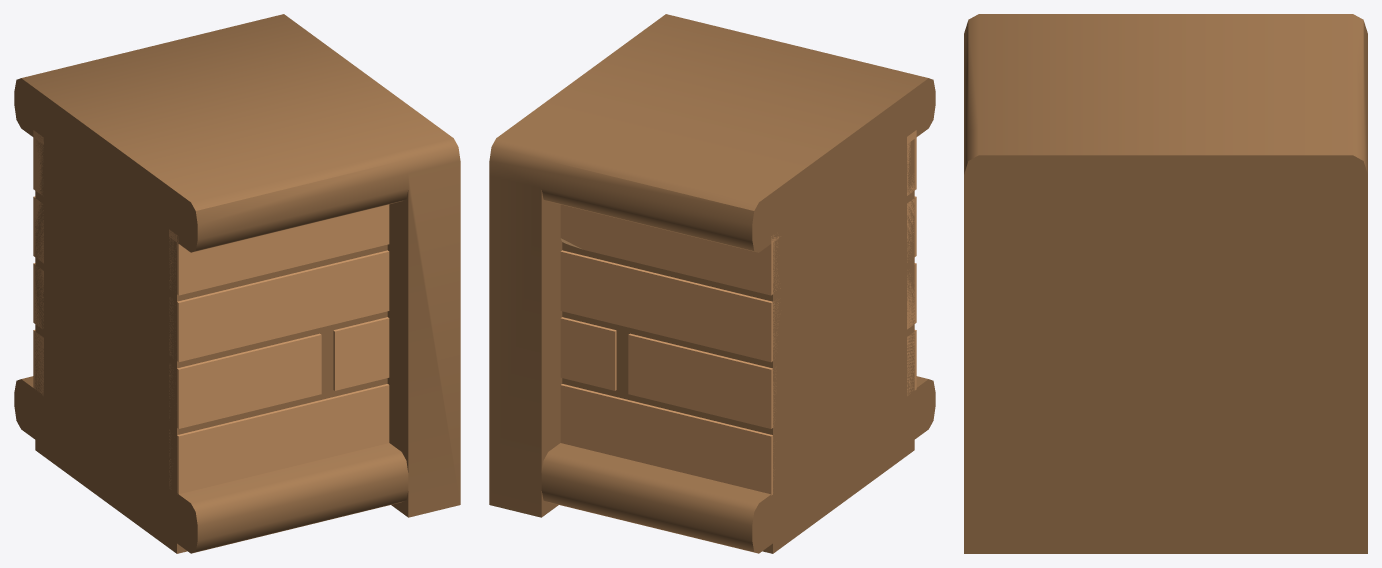
The model's file is quaternius-sushi-restaurant-environment-counter-end.glb.
The picture shows the model from 3 angles, left to right: view 1: azimuth 30°, elevation 25°; view 2: azimuth 150°, elevation 25°; view 3: azimuth 270°, elevation 25°; orthographic projection. The views are drawn at different scales.
Parts seen in each view (by area): view 1: Environment_Counter_End; view 2: Environment_Counter_End; view 3: Environment_Counter_End.
Boxes of the visible parts, <box> form: Environment_Counter_End: <box>14,14,460,553</box>; Environment_Counter_End: <box>489,14,935,553</box>; Environment_Counter_End: <box>964,14,1367,553</box>.
Size of the model in its own units: 1.46 by 1.92 by 1.77.
Materials: 1 (1 with a texture image).
